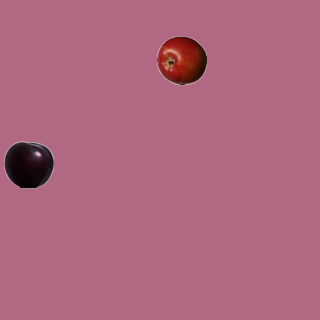Apple Braeburn: (156, 35, 206, 85)
Cherry Wax Black: (3, 139, 53, 189)
